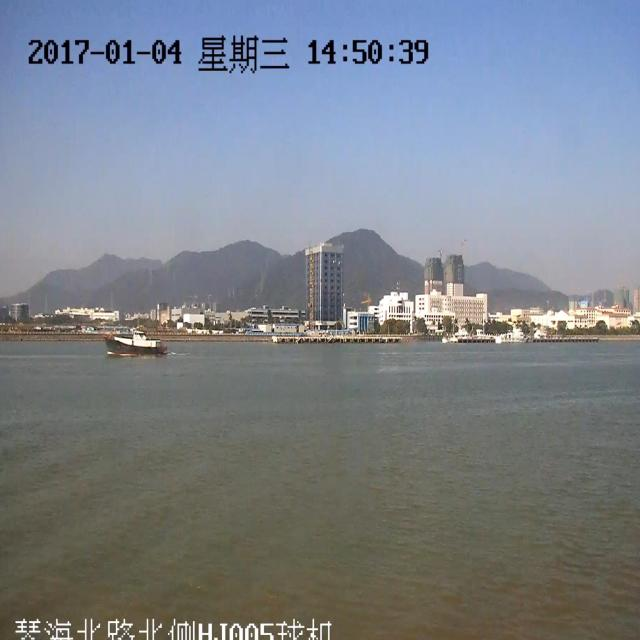cargoship: (95, 312, 169, 366)
